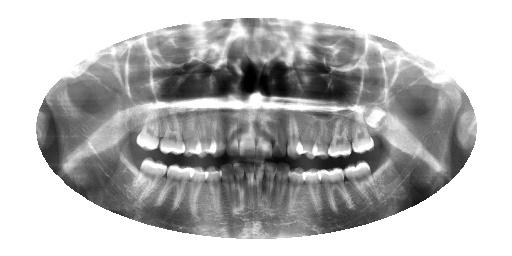Cavity: (221, 162, 237, 213), (272, 111, 288, 159), (241, 115, 255, 158), (276, 164, 290, 203)
Fillings: (165, 163, 193, 213), (320, 167, 346, 211), (184, 110, 204, 157), (202, 107, 219, 157), (313, 111, 329, 159), (294, 112, 311, 157)
